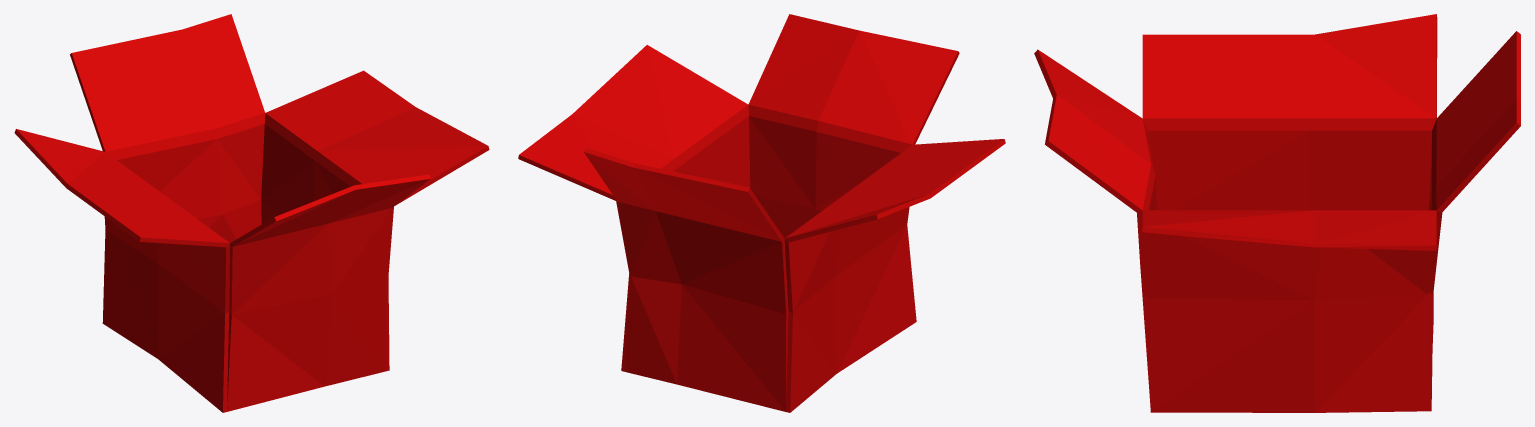
3 views of the same model, side by side, from view 1: azimuth 30°, elevation 25°; view 2: azimuth 150°, elevation 25°; view 3: azimuth 270°, elevation 25° (orthographic). The views are drawn at different scales.
Parts seen in each view (by area): view 1: Mesh; view 2: Mesh; view 3: Mesh.
Boxes of the visible parts, <box> form: Mesh: <box>14,14,489,412</box>; Mesh: <box>518,14,1005,412</box>; Mesh: <box>1034,14,1520,412</box>.
Size of the model in its own units: 1.3 by 0.8625 by 1.32.
